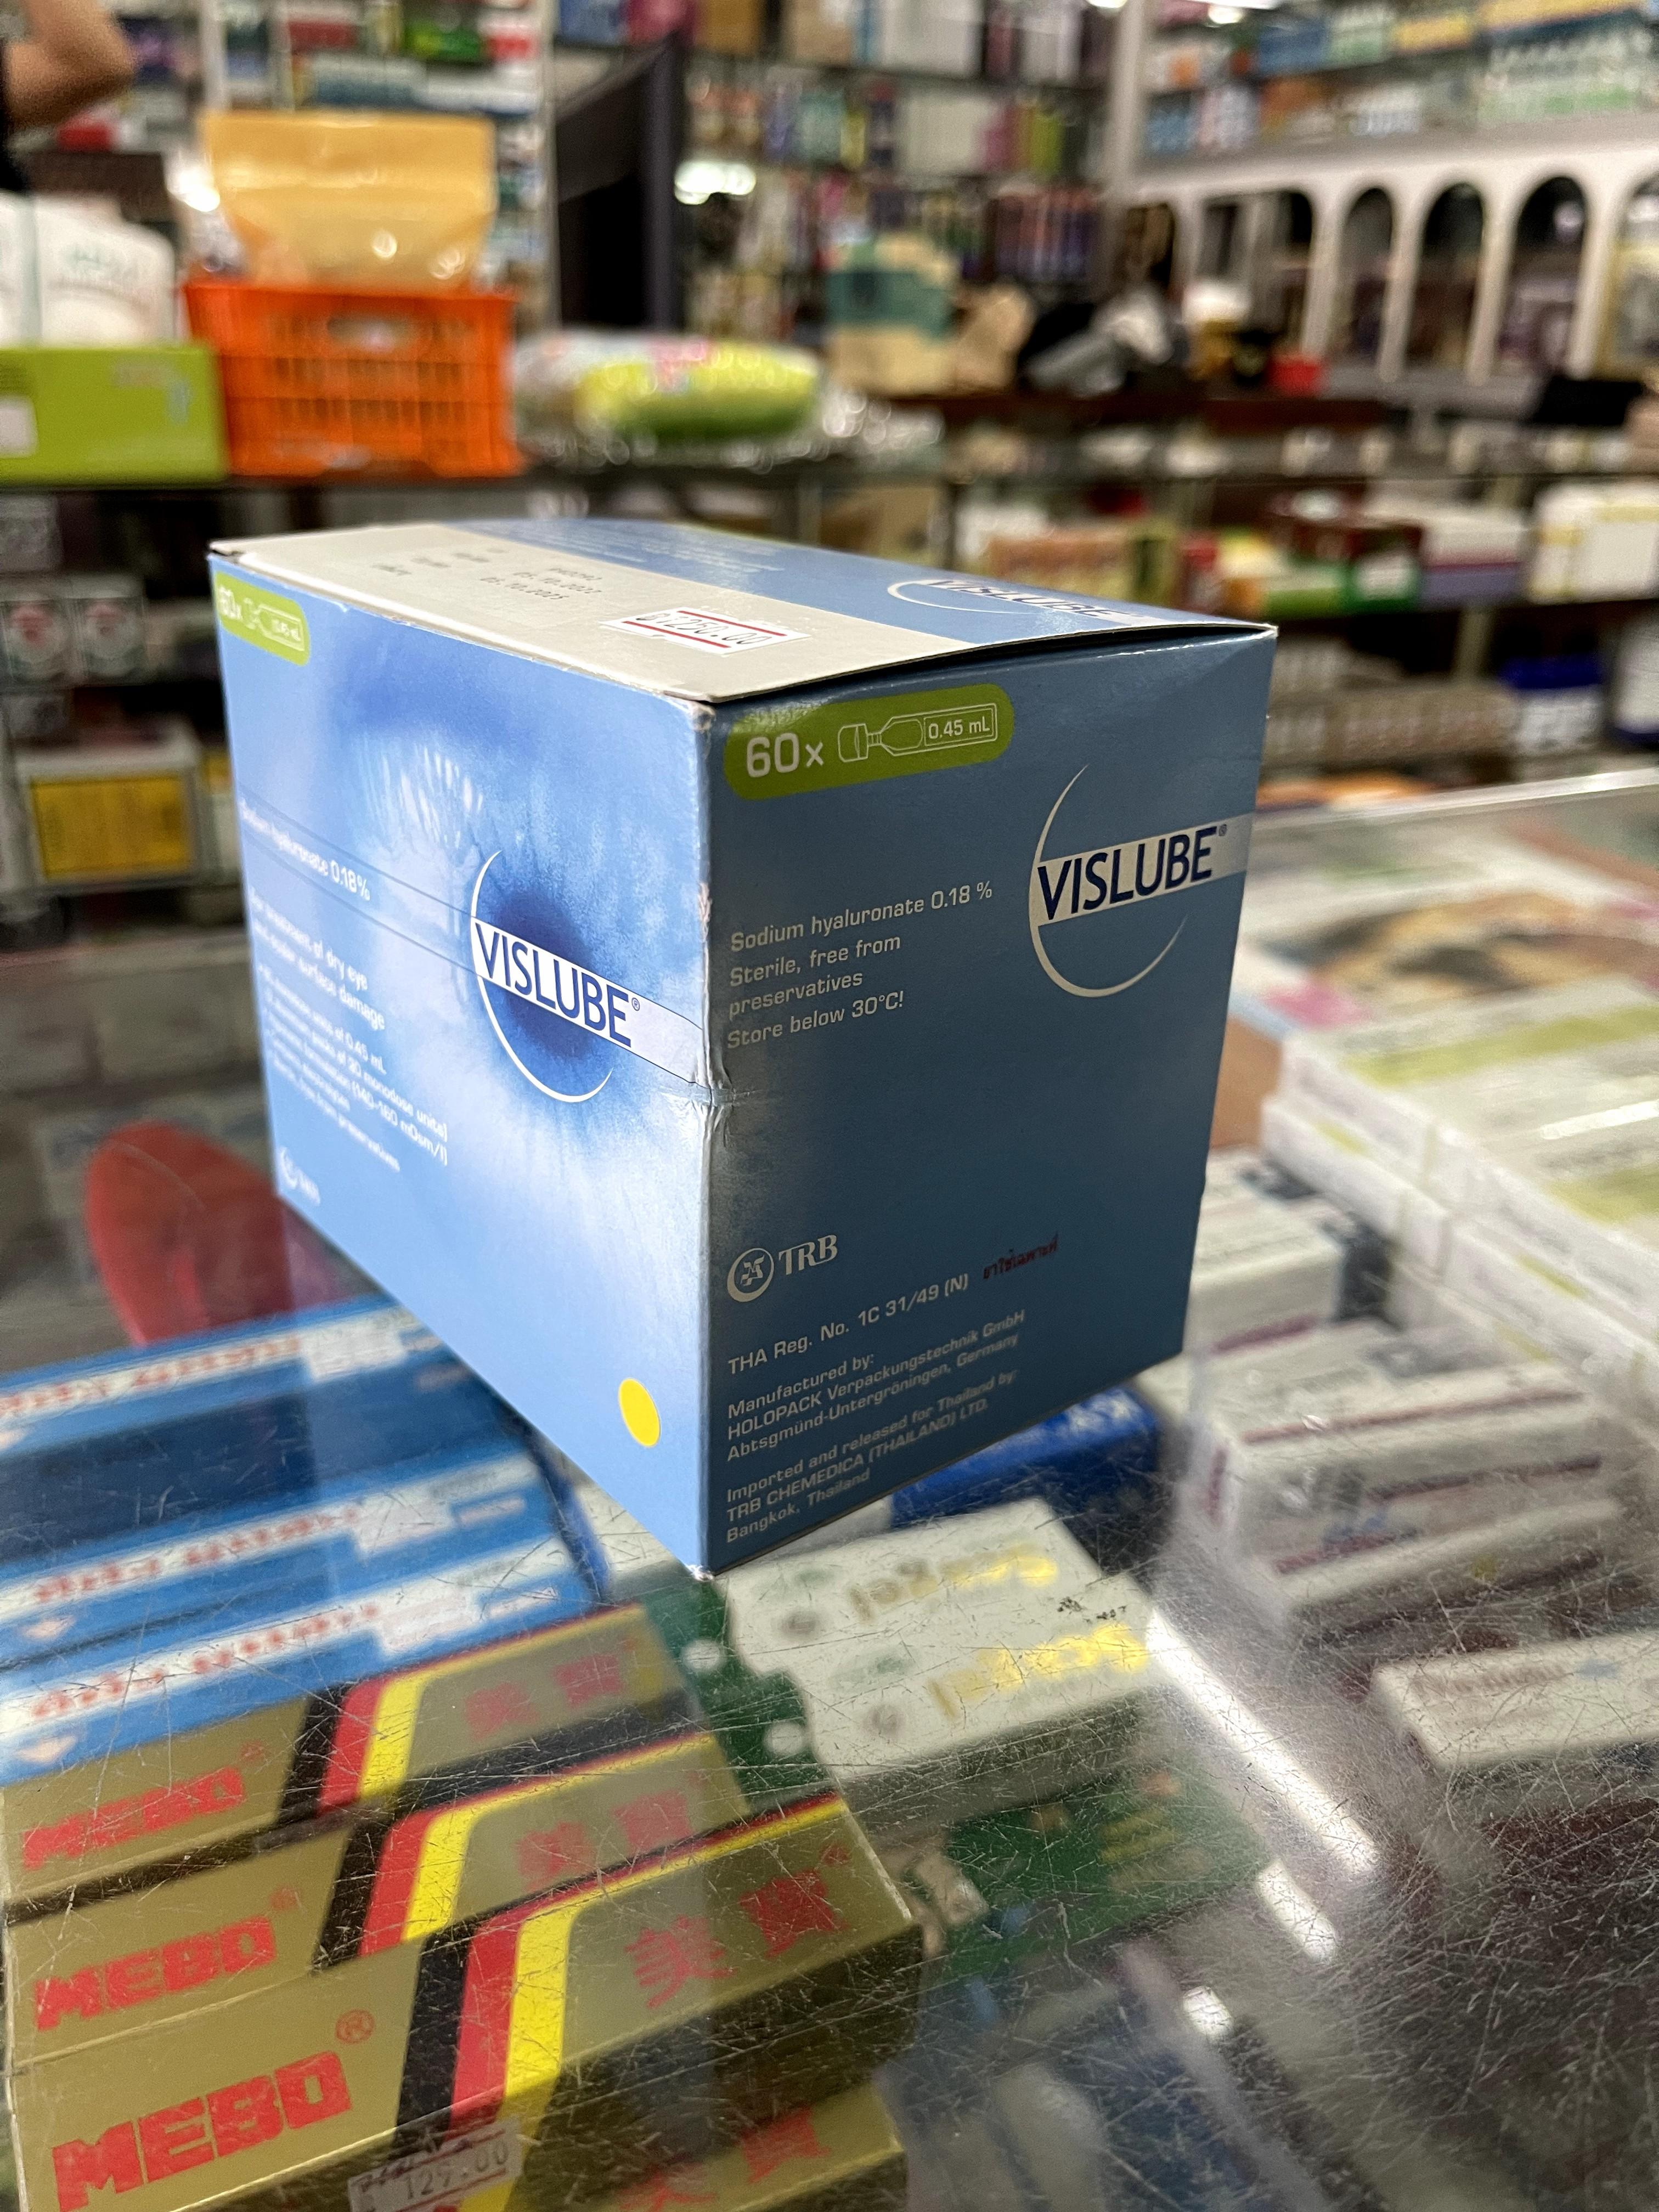Vislube60: (211, 516, 1270, 1583)
